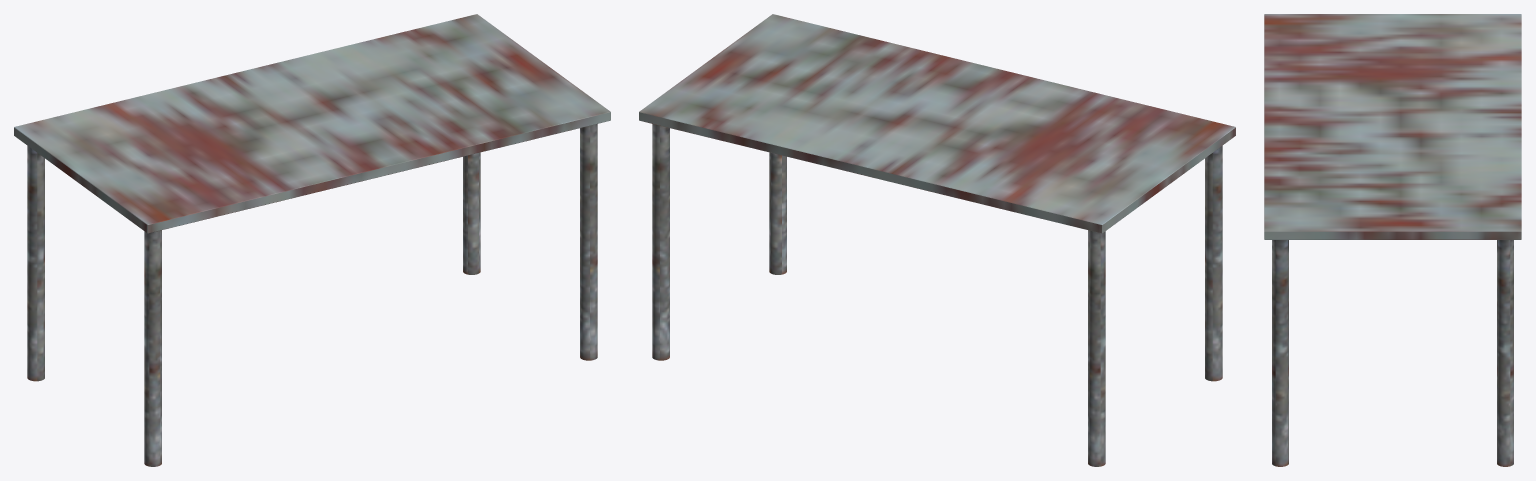
File: table.fbx
3 views of the same model, side by side, from view 1: azimuth 30°, elevation 25°; view 2: azimuth 150°, elevation 25°; view 3: azimuth 270°, elevation 25° (orthographic). The views are drawn at different scales.
Visible parts, largest first — view 1: Cube.009; view 2: Cube.009; view 3: Cube.009.
Part boxes in pixels (left/top/right/bottom): Cube.009: left=14, top=14, right=610, bottom=466; Cube.009: left=639, top=14, right=1235, bottom=466; Cube.009: left=1264, top=14, right=1521, bottom=466.
Bounding box in the file's own units: 160 × 81.78 × 80.
Materials: 2 (2 with a texture image).
